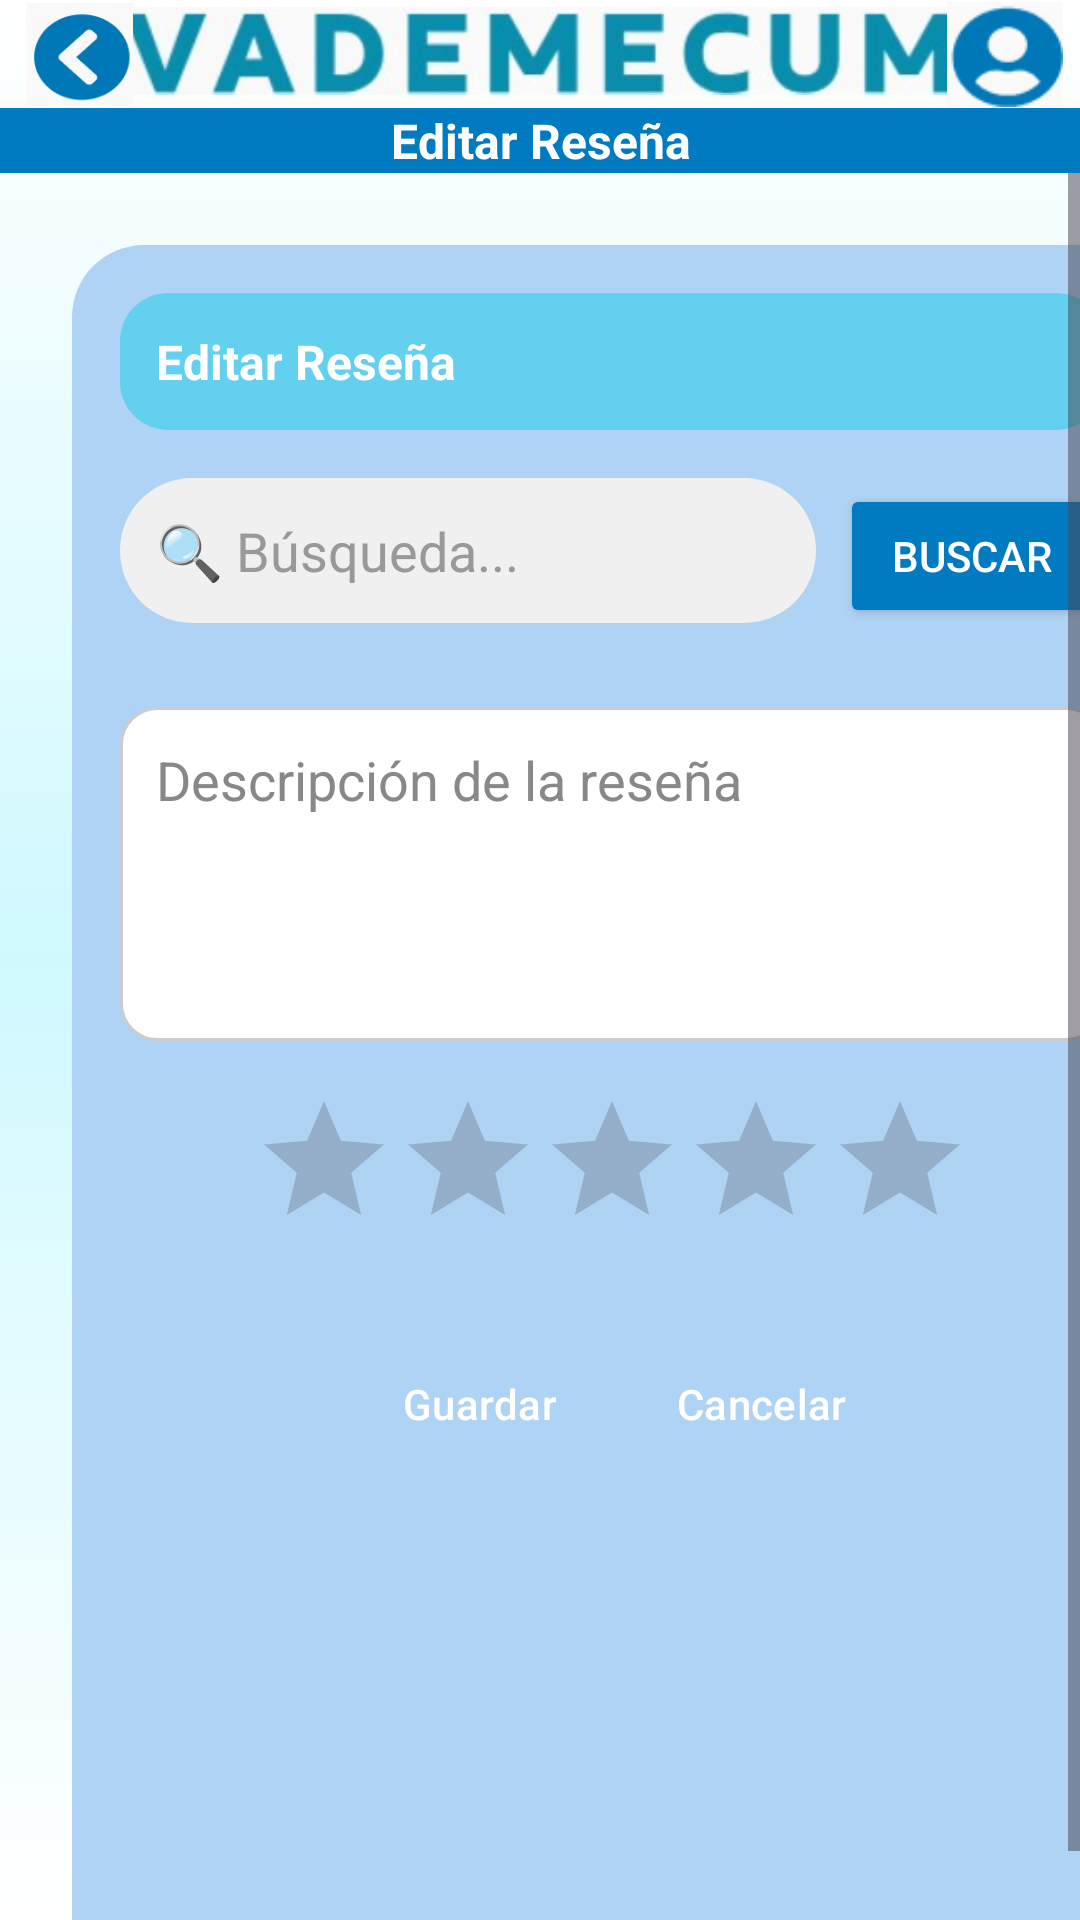

Point at icon controls on the screen. Image size 1080x1920, points as (x=x, y=y).
imgatras: (x=82, y=57)
imgusuario: (x=1005, y=54)
